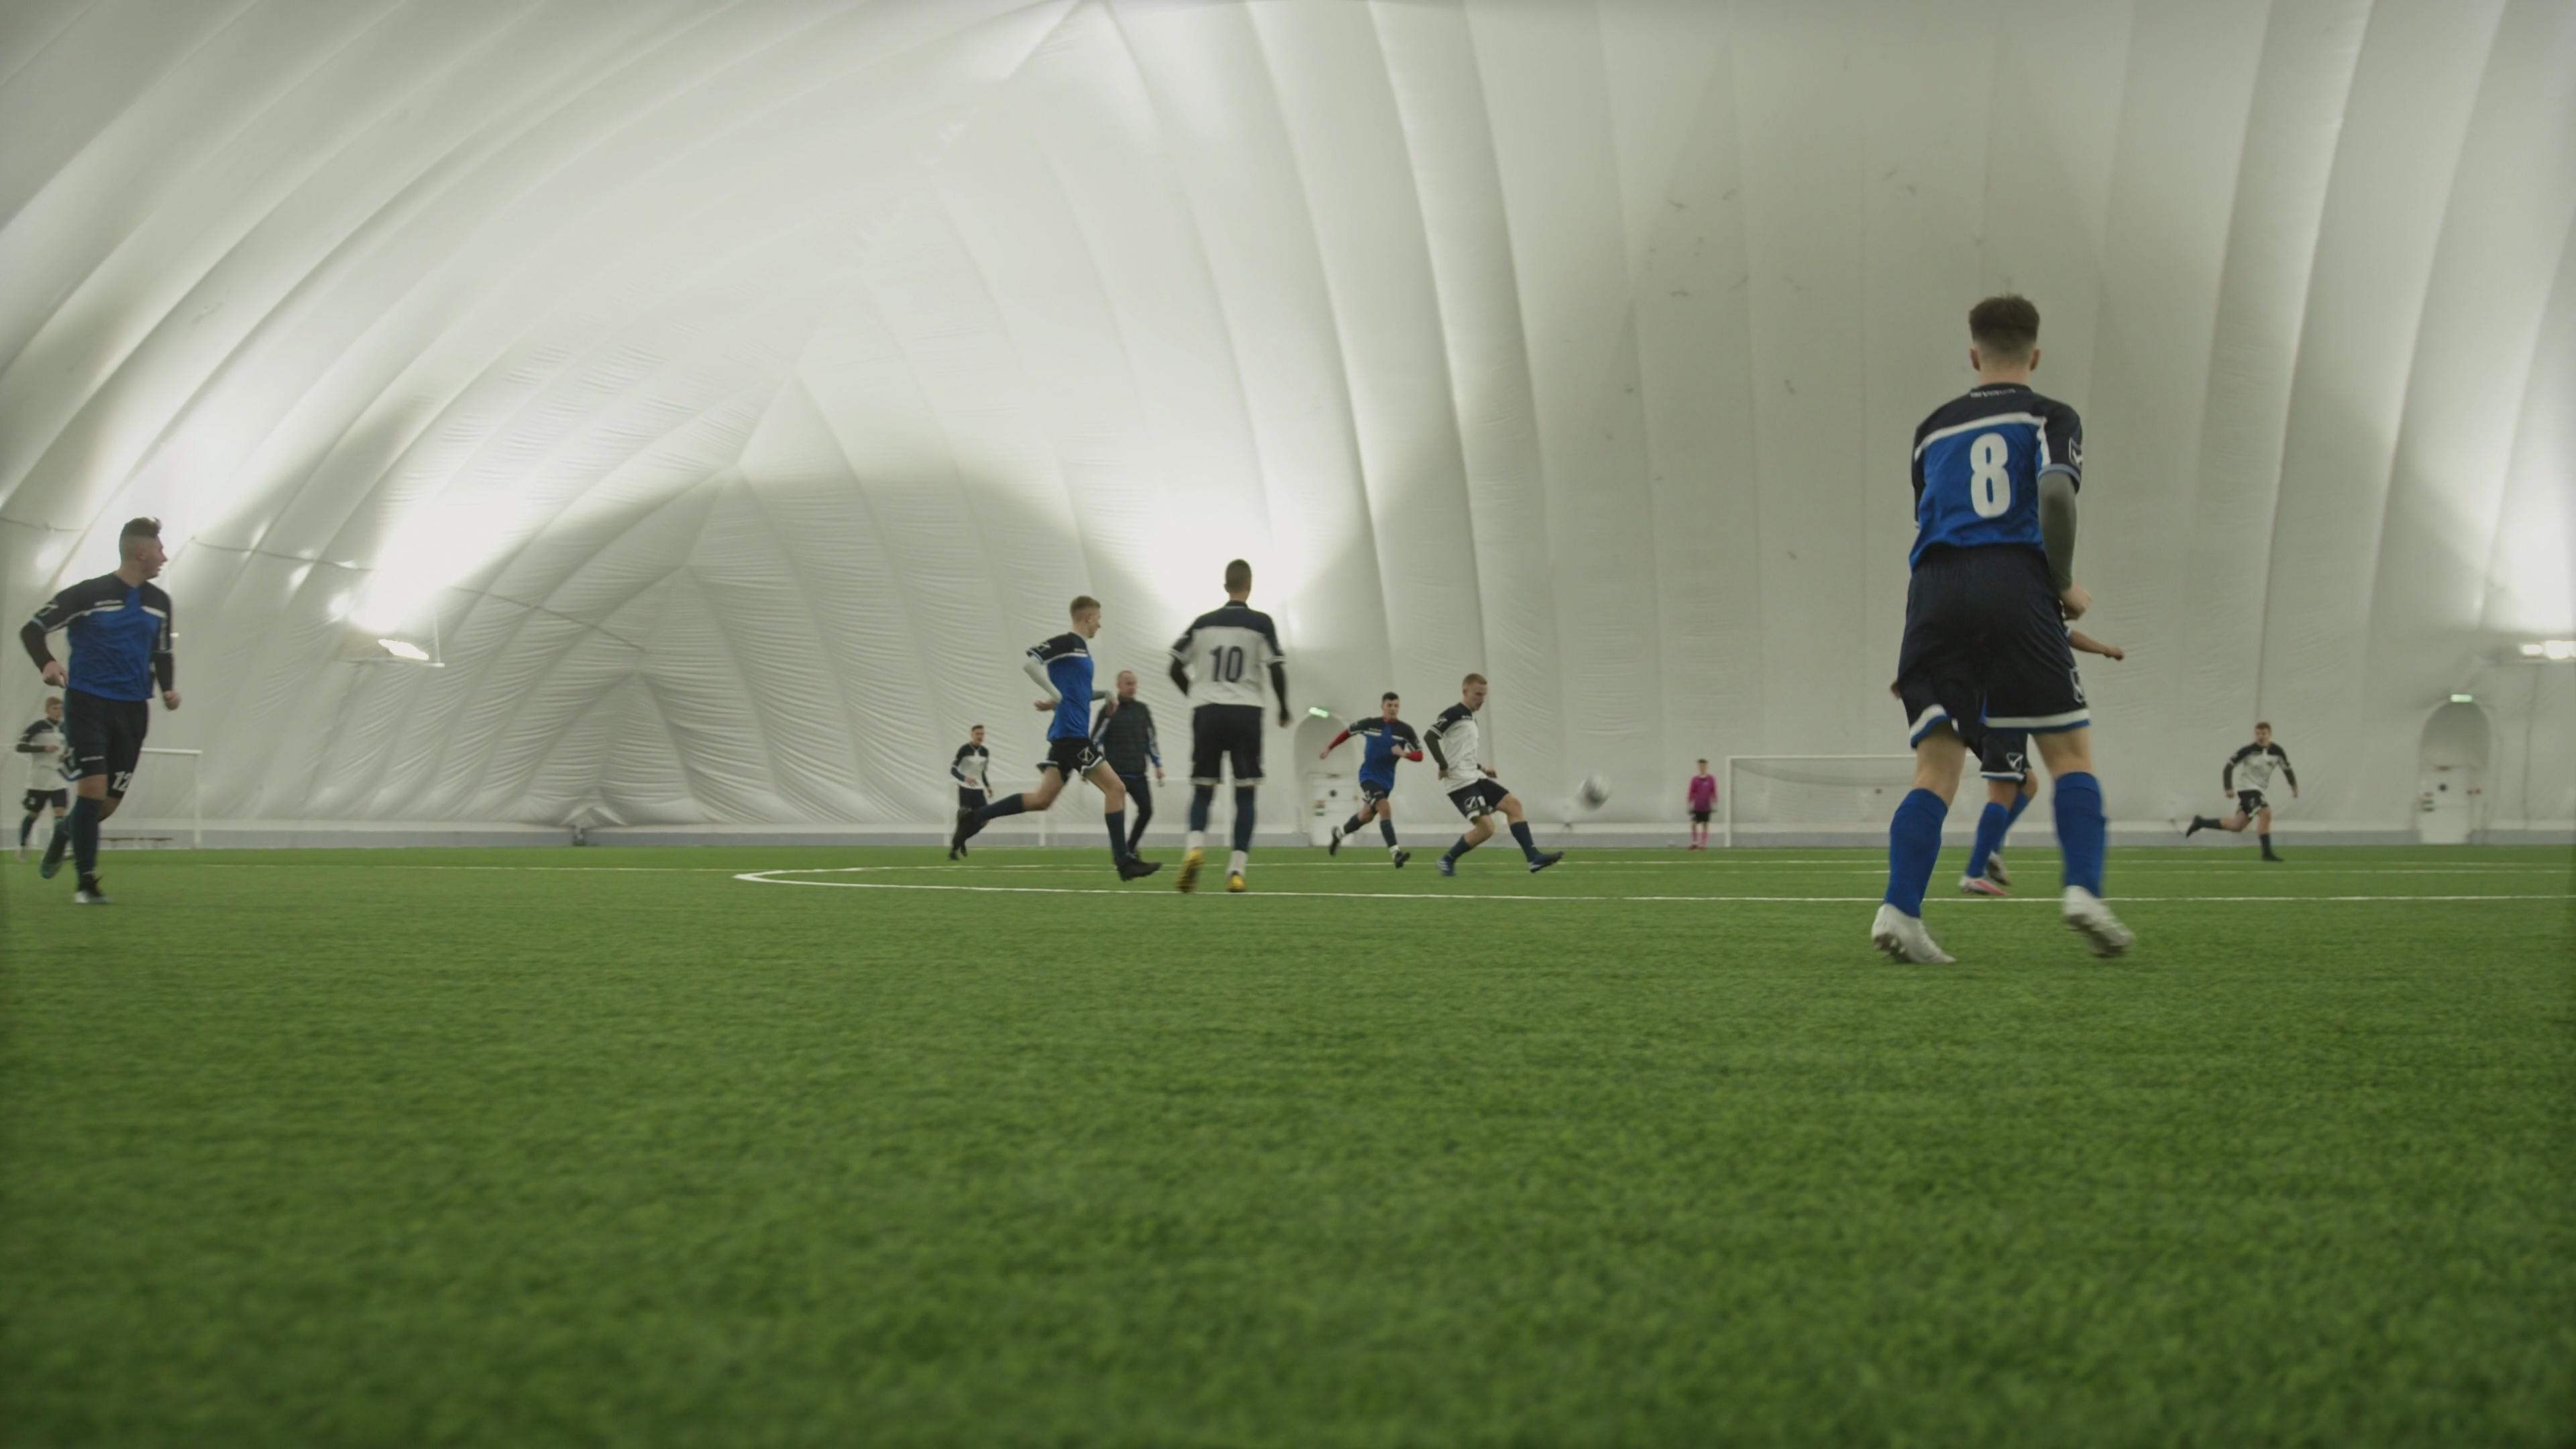other: (1088, 672, 1161, 885)
team1: (1870, 292, 2137, 970), (16, 515, 180, 909), (962, 596, 1157, 878), (1315, 688, 1428, 865)
team1gk: (1684, 757, 1721, 851)
team2: (1168, 557, 1290, 869), (1428, 671, 1557, 878), (2196, 724, 2295, 858), (9, 686, 71, 858), (948, 727, 1000, 858)
